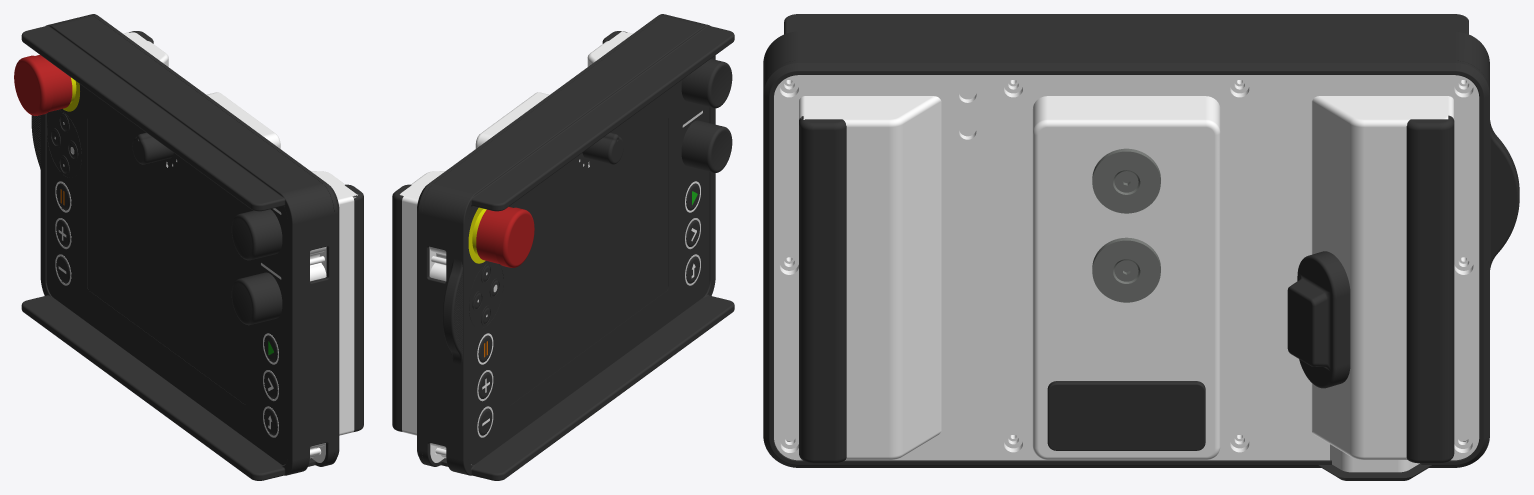
Rendered from remote.gltf.
3 renders of one model, left to right at view 1: azimuth 30°, elevation 25°; view 2: azimuth 150°, elevation 25°; view 3: azimuth 270°, elevation 25°, orthographic. The views are drawn at different scales.
Parts seen in each view (by area): view 1: =>[0:1:1:12], =>[0:1:1:4], =>[0:1:1:1], =>[0:1:1:15], =>[0:1:1:3], =>[0:1:1:10], =>[0:1:1:14], =>[0:1:1:13], =>[0:1:1:6], =>[0:1:1:9], =>[0:1:1:2]; view 2: =>[0:1:1:12], =>[0:1:1:4], =>[0:1:1:1], =>[0:1:1:15], =>[0:1:1:8], =>[0:1:1:3], =>[0:1:1:14], =>[0:1:1:13], =>[0:1:1:6], =>[0:1:1:9], =>[0:1:1:2]; view 3: =>[0:1:1:1], =>[0:1:1:9], =>[0:1:1:4], =>[0:1:1:3], =>[0:1:1:8], =>[0:1:1:10], =>[0:1:1:11], =>[0:1:1:2].
Part boxes in pixels (x1=…): =>[0:1:1:12]: x1=46, y1=81, x2=287, y2=464; =>[0:1:1:4]: x1=21, y1=15, x2=334, y2=480; =>[0:1:1:1]: x1=123, y1=32, x2=357, y2=462; =>[0:1:1:15]: x1=14, y1=55, x2=76, y2=115; =>[0:1:1:3]: x1=89, y1=14, x2=339, y2=464; =>[0:1:1:10]: x1=345, y1=184, x2=363, y2=431; =>[0:1:1:14]: x1=231, y1=272, x2=282, y2=325; =>[0:1:1:13]: x1=231, y1=209, x2=282, y2=260; =>[0:1:1:6]: x1=132, y1=132, x2=173, y2=164; =>[0:1:1:9]: x1=206, y1=92, x2=280, y2=148; =>[0:1:1:2]: x1=310, y1=247, x2=326, y2=458; =>[0:1:1:12]: x1=468, y1=80, x2=709, y2=464; =>[0:1:1:4]: x1=422, y1=15, x2=734, y2=480; =>[0:1:1:1]: x1=399, y1=31, x2=632, y2=462; =>[0:1:1:15]: x1=472, y1=206, x2=534, y2=267; =>[0:1:1:8]: x1=392, y1=184, x2=411, y2=431; =>[0:1:1:3]: x1=417, y1=14, x2=666, y2=465; =>[0:1:1:14]: x1=681, y1=120, x2=732, y2=173; =>[0:1:1:13]: x1=681, y1=59, x2=732, y2=108; =>[0:1:1:6]: x1=582, y1=132, x2=623, y2=164; =>[0:1:1:9]: x1=475, y1=92, x2=549, y2=148; =>[0:1:1:2]: x1=429, y1=247, x2=471, y2=464; =>[0:1:1:1]: x1=774, y1=75, x2=1479, y2=472; =>[0:1:1:9]: x1=1032, y1=96, x2=1220, y2=459; =>[0:1:1:4]: x1=763, y1=14, x2=1519, y2=441; =>[0:1:1:3]: x1=763, y1=60, x2=1489, y2=480; =>[0:1:1:8]: x1=1406, y1=115, x2=1454, y2=463; =>[0:1:1:10]: x1=799, y1=116, x2=846, y2=463; =>[0:1:1:11]: x1=1287, y1=251, x2=1350, y2=388; =>[0:1:1:2]: x1=784, y1=80, x2=1468, y2=441.
Bounding box in the file's own units: 0.0685 × 0.15 × 0.254.
